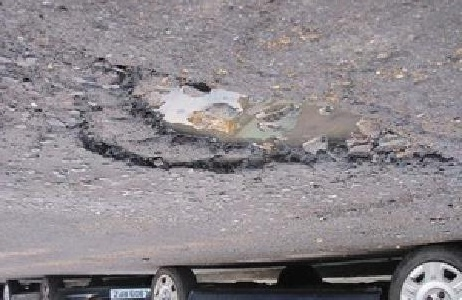pothole: (74, 52, 453, 177)
